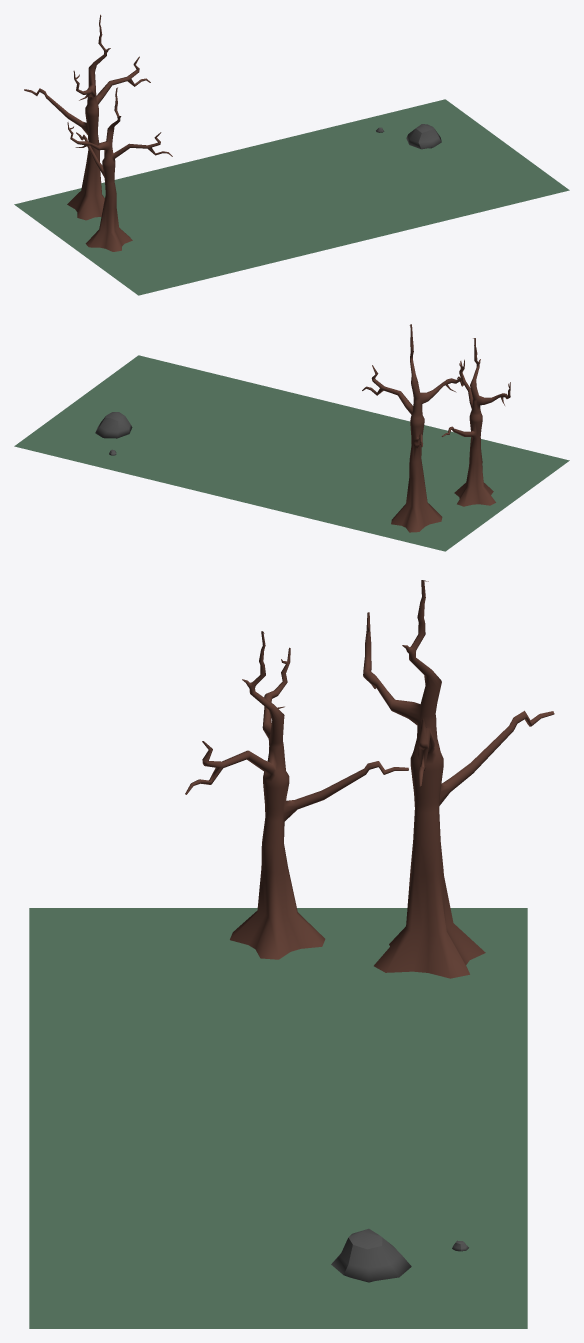
Rendered from room_piece_3.obj.
3 renders of one model, top to bottom at view 1: azimuth 30°, elevation 25°; view 2: azimuth 150°, elevation 25°; view 3: azimuth 270°, elevation 25°, orthographic. The views are drawn at different scales.
Visible parts, largest first — view 1: room_piece_3_pasted__polySurface24; view 2: room_piece_3_pasted__polySurface24; view 3: room_piece_3_pasted__polySurface24.
Part boxes in pixels (box(x1,y1,x2,y2)): room_piece_3_pasted__polySurface24: box(14, 14, 569, 295); room_piece_3_pasted__polySurface24: box(14, 324, 569, 551); room_piece_3_pasted__polySurface24: box(29, 580, 554, 1328).
Bounding box in the file's own units: 50.67 × 21.7 × 26.36.
